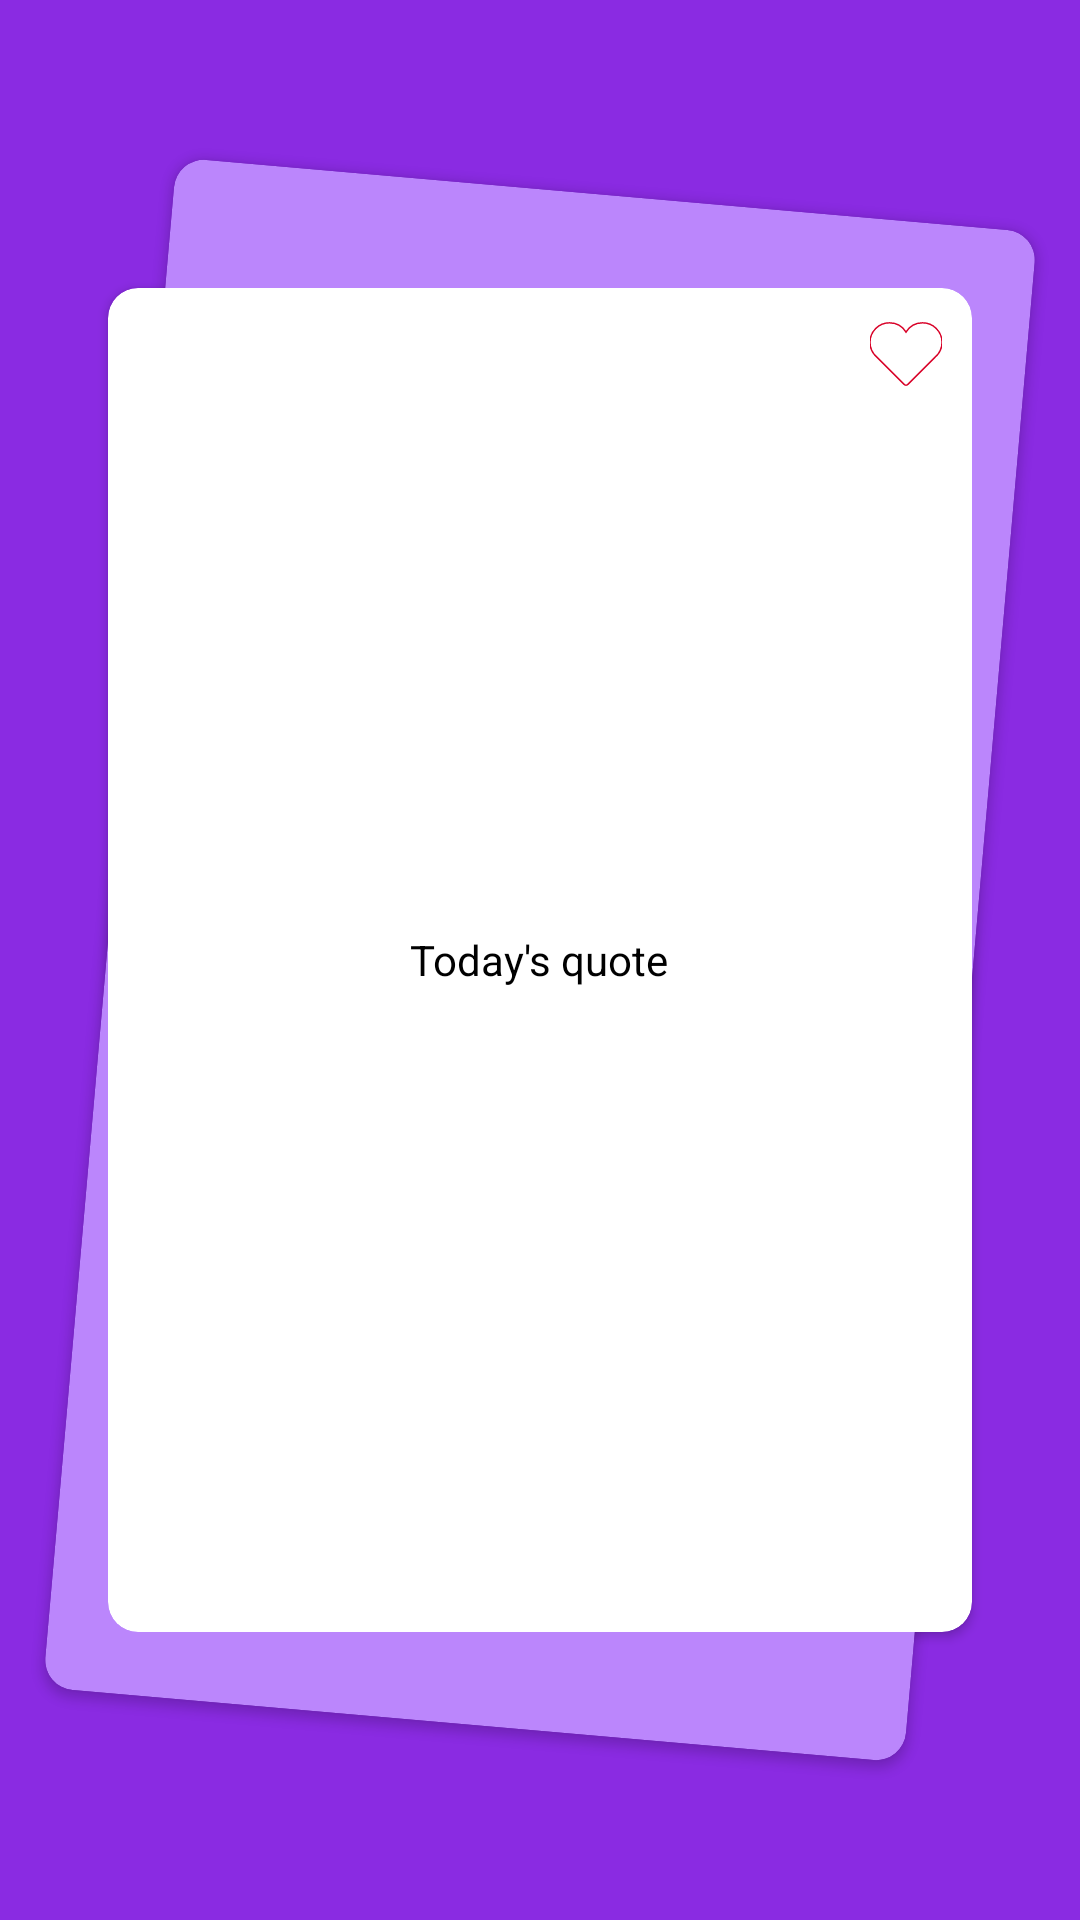

Named icons in this screenshot (1080px x 1920px) and their bounding boxes, (x1, y1, x2, y2):
heart: (870, 322, 942, 386)
